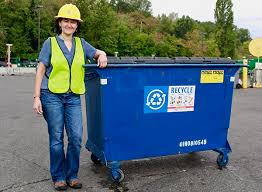Dumpster: (74, 54, 250, 182)
Person: (35, 3, 108, 191)
